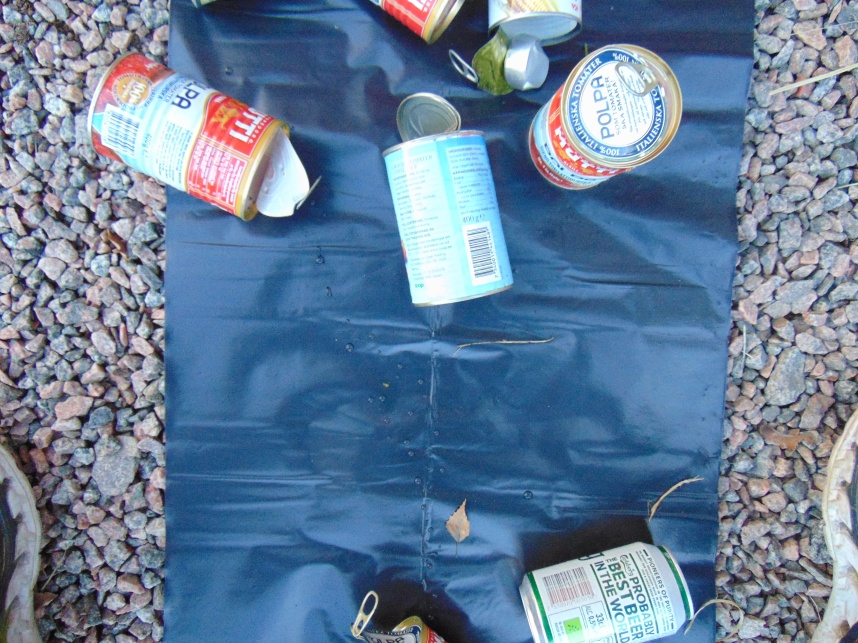metal: (444, 20, 514, 95), (271, 151, 320, 222), (392, 91, 468, 132), (346, 588, 391, 643), (504, 41, 550, 93)
metal_can: (87, 50, 292, 224), (525, 43, 688, 190), (384, 131, 515, 308), (521, 539, 696, 643), (483, 1, 585, 48), (366, 1, 467, 43), (384, 614, 453, 643)
